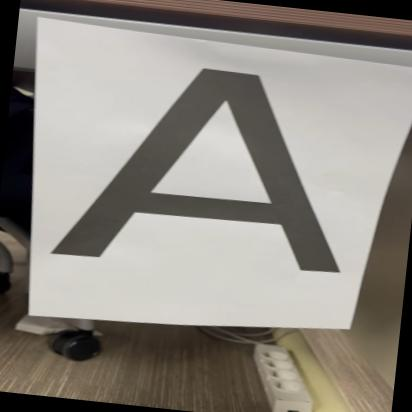seat: (38, 37, 383, 293)
